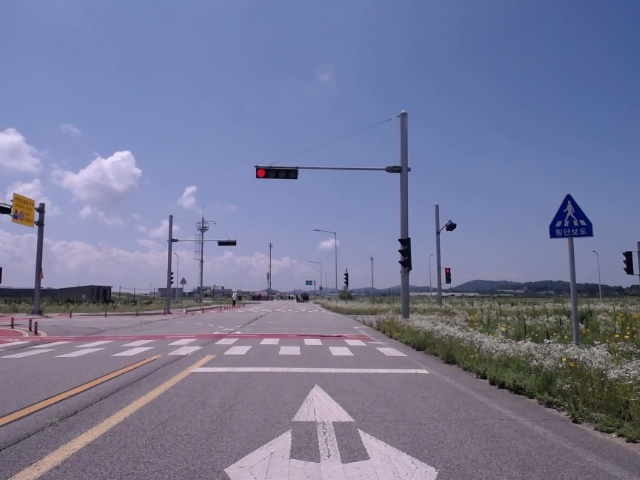red_4: (256, 168, 298, 180)
